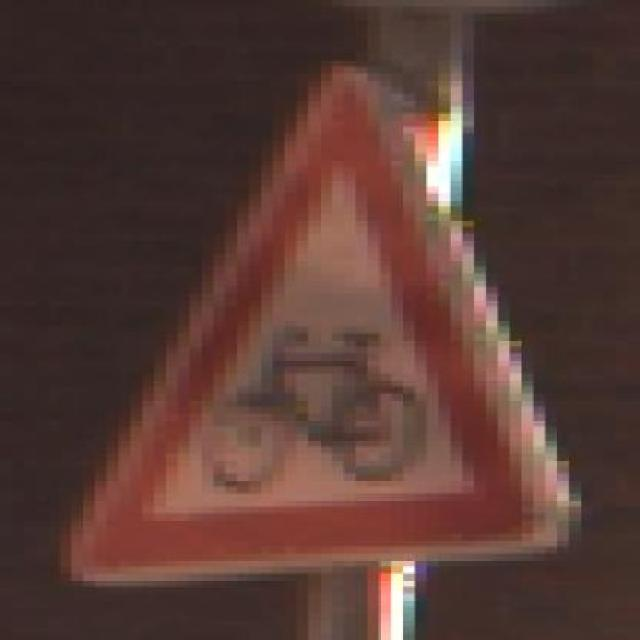CYCLE ROUTE AHEAD WARNING: (35, 51, 592, 591)
